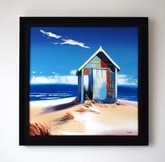painting: (18, 16, 150, 146)
